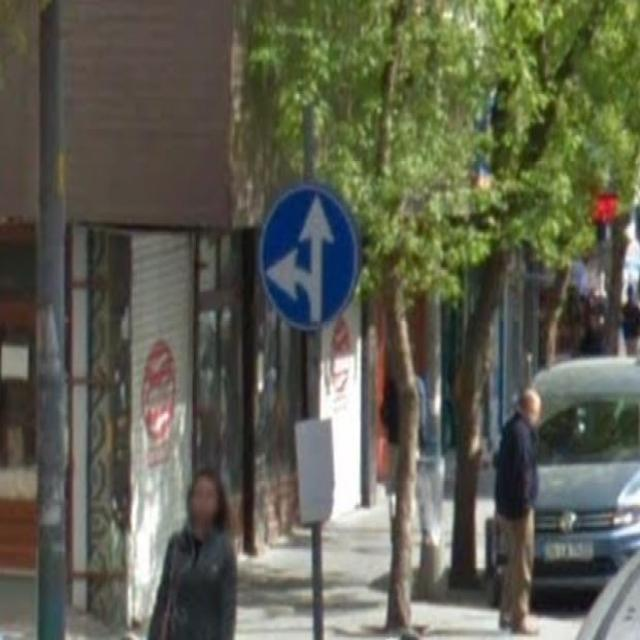ilerisol: (260, 185, 358, 333)
